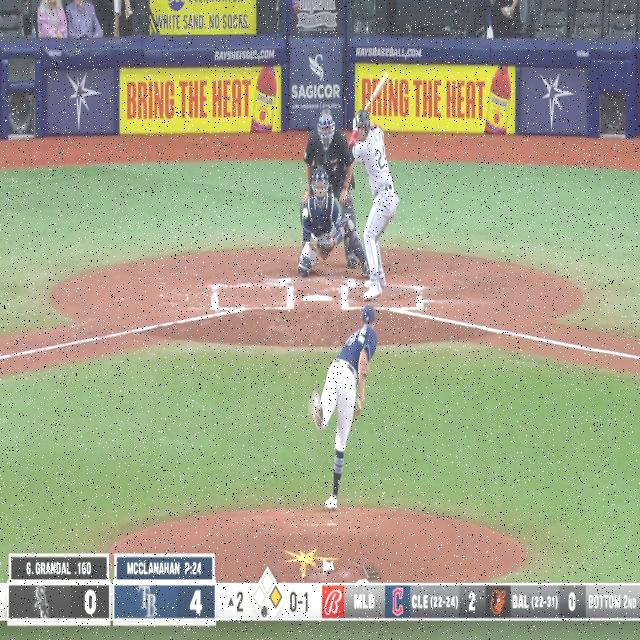baseball: (302, 208, 308, 220)
